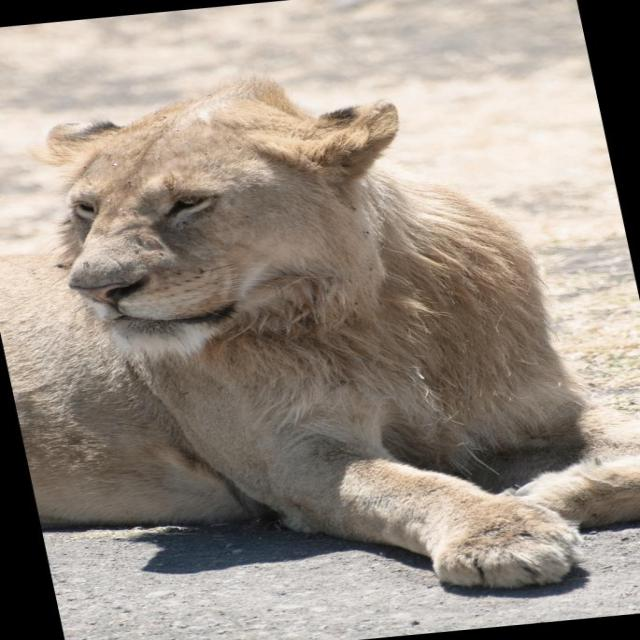Lion: (0, 43, 639, 632)
